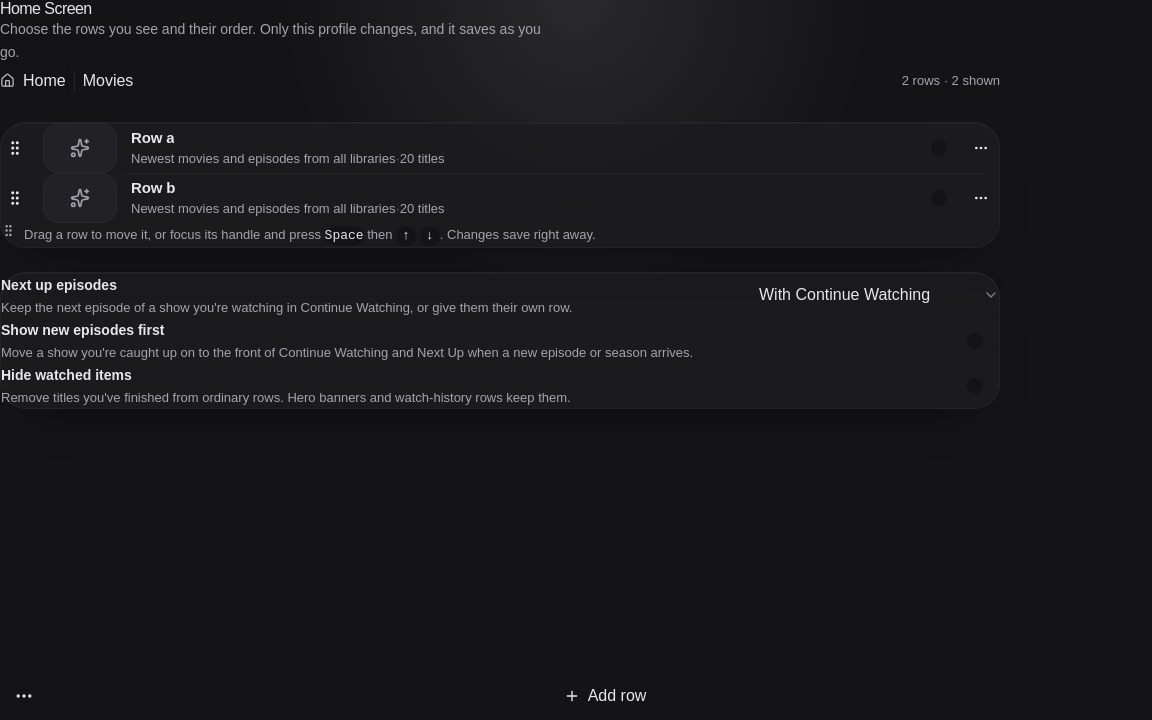
rule rows on Settings > Home Screen › offers rule rows to a user account without reading a server setting
Step 1. Click the button "Add row" → (605, 696), box x1=58 y1=672 x2=1151 y2=719
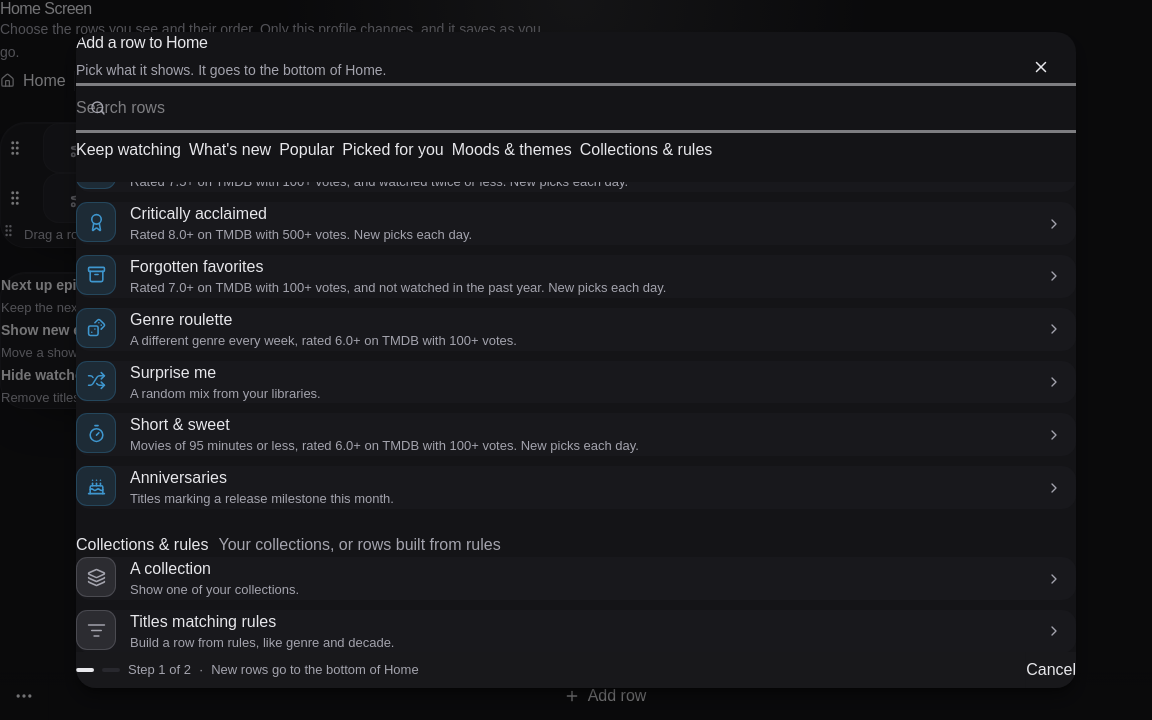
expect the button "Titles matching rules" is shown: met, box x1=130 y1=610 x2=276 y2=634
